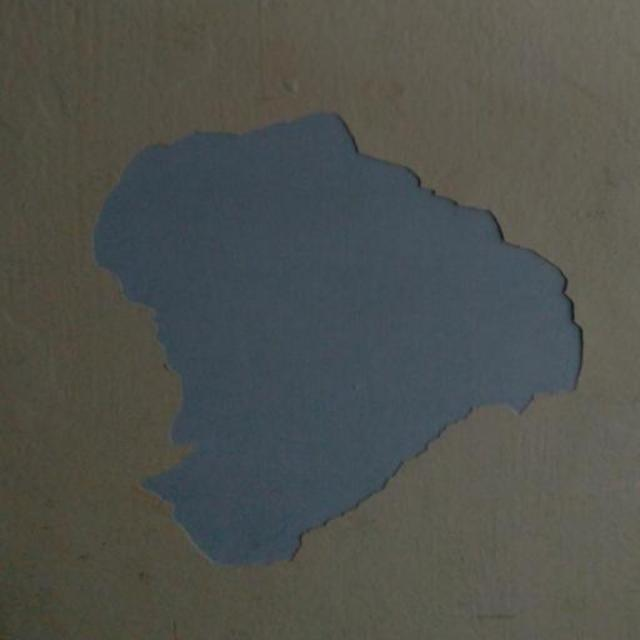wall_peeling: (90, 108, 584, 568)
